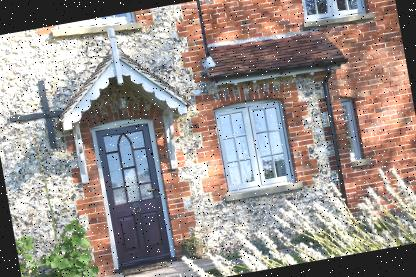door: (81, 110, 181, 272)
